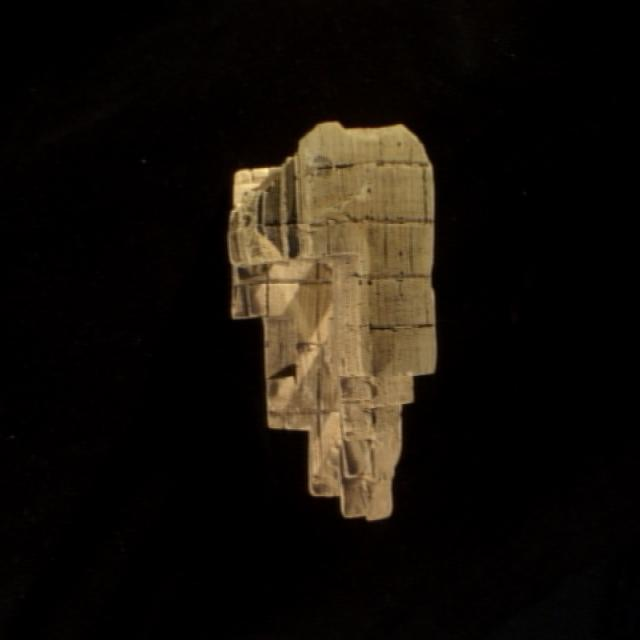Instance-Segmentation: (229, 123, 435, 516)
